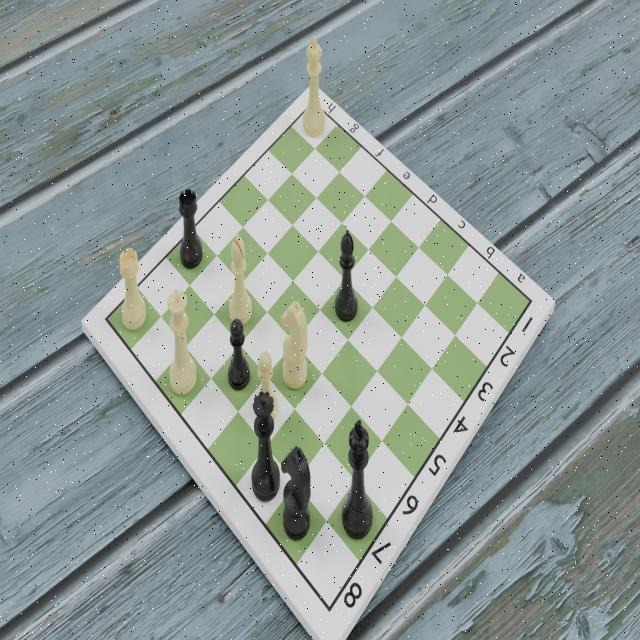black-bishop: (226, 232, 253, 328), (334, 228, 358, 323)
black-king: (340, 419, 376, 545)
black-knight: (279, 444, 313, 542)
black-pawn: (226, 315, 252, 393)
black-queen: (250, 388, 281, 504)
black-rook: (178, 186, 204, 269)
white-king: (300, 34, 327, 140)
white-knight: (279, 299, 310, 393)
white-pawn: (253, 350, 279, 422)
white-queen: (166, 288, 199, 396)
white-rook: (119, 246, 148, 333)
